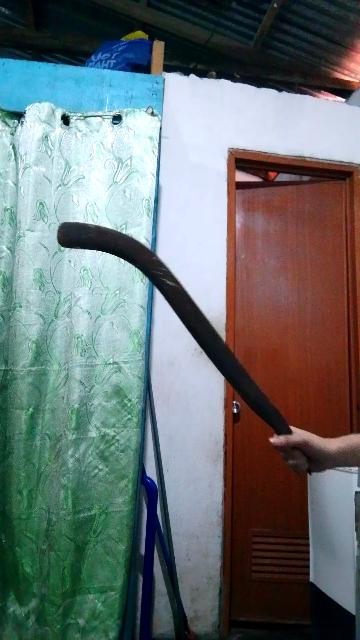long knife: (34, 209, 332, 475)
